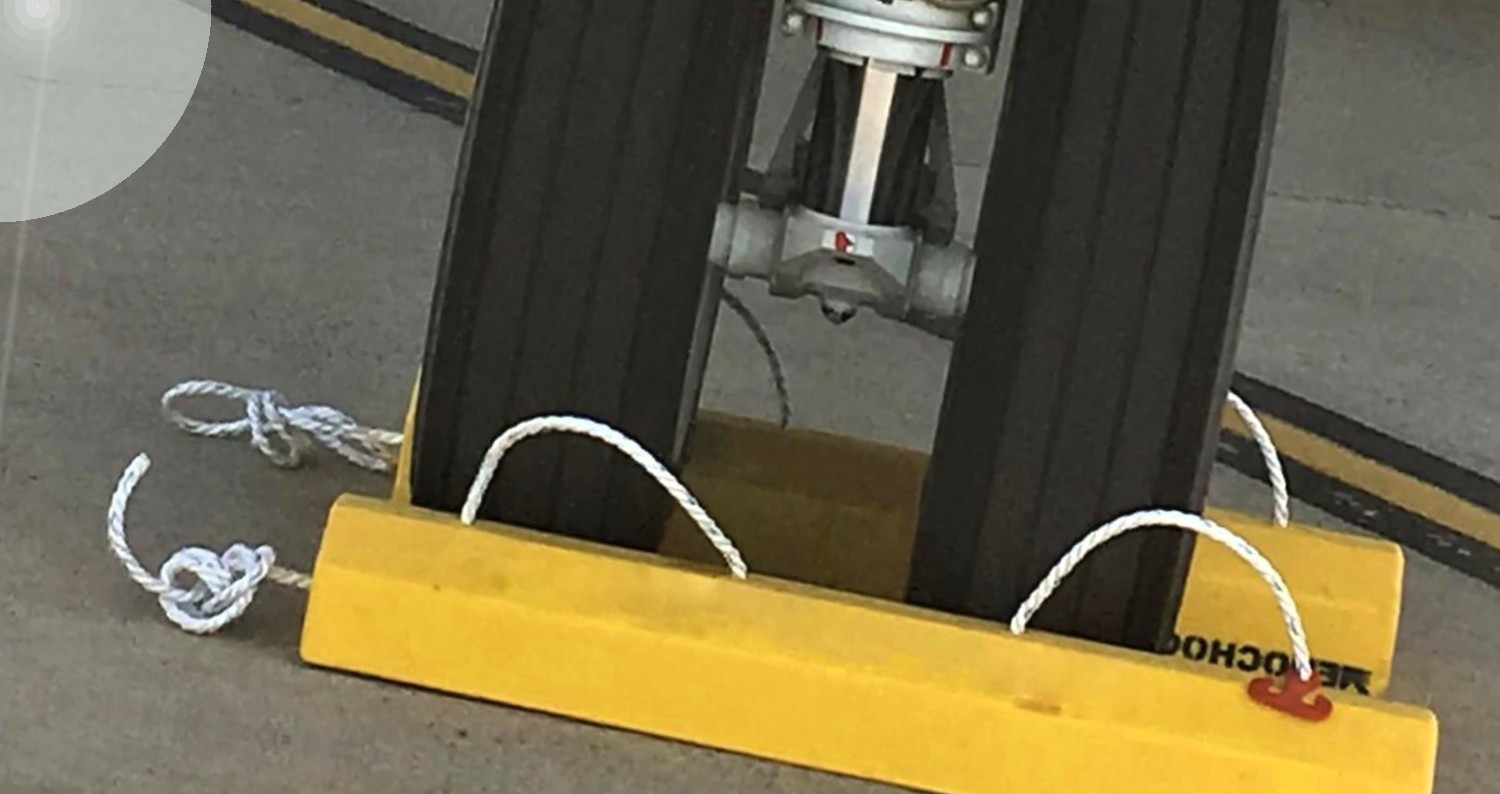chock: (362, 350, 1430, 702), (281, 481, 1471, 794)
wheel: (916, 0, 1308, 668), (405, 0, 796, 564)
